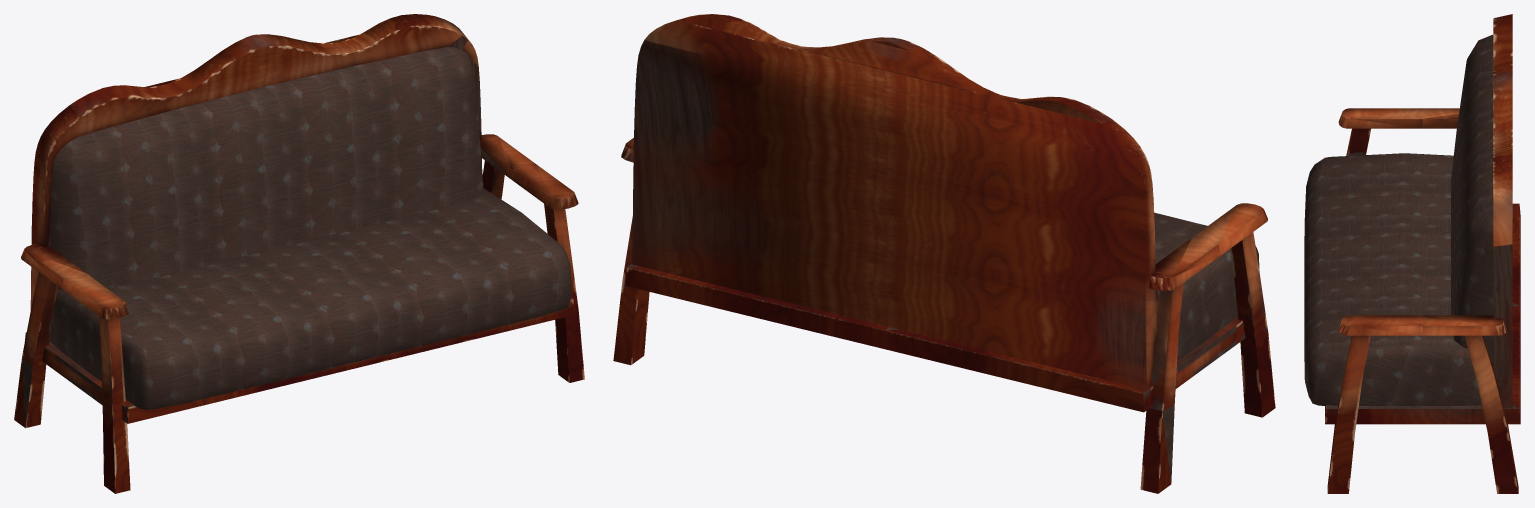
File: sofa.glb
3 views of the same model, side by side, from view 1: azimuth 30°, elevation 25°; view 2: azimuth 150°, elevation 25°; view 3: azimuth 270°, elevation 25° (orthographic). The views are drawn at different scales.
Visible parts, largest first — view 1: Object_2; view 2: Object_2; view 3: Object_2.
Part boxes in pixels (x1=…): Object_2: x1=14, y1=14, x2=584, y2=493; Object_2: x1=613, y1=14, x2=1275, y2=493; Object_2: x1=1304, y1=14, x2=1520, y2=493.
Size of the model in its own units: 204 by 135 by 84.88.
Materials: 1 (1 with a texture image).
